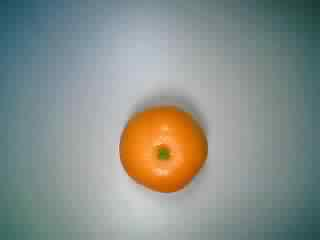orange: (114, 97, 209, 199)
